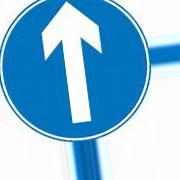forward: (1, 1, 145, 140)
